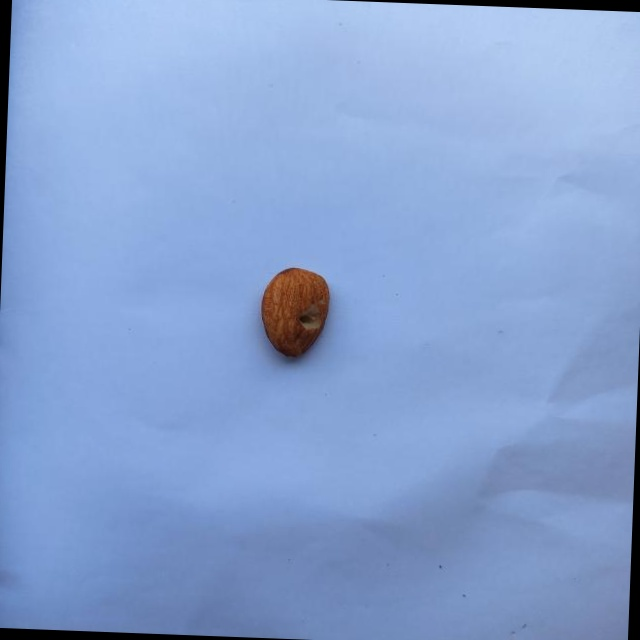grade3: (257, 262, 336, 364)
